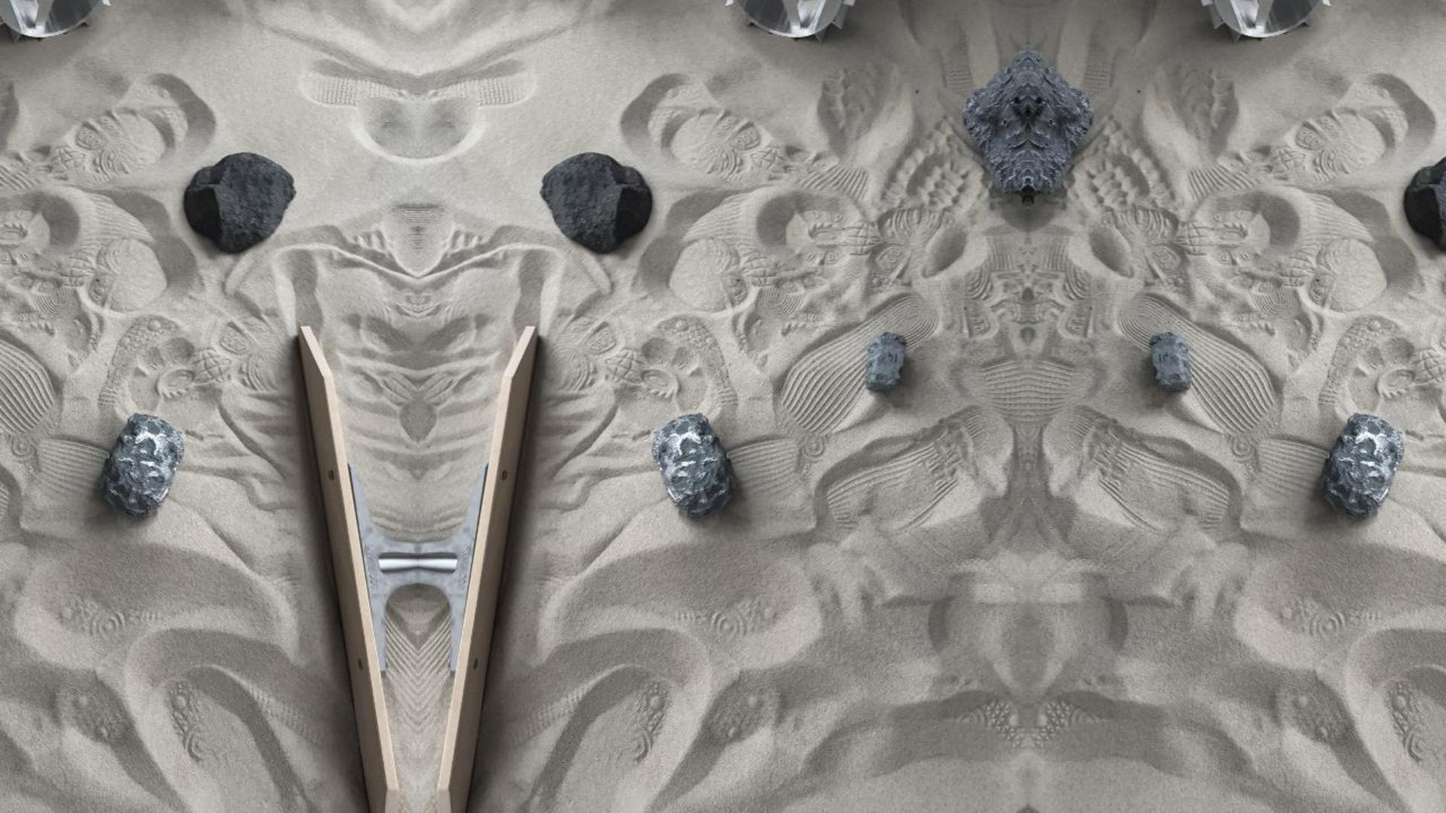rock: (962, 46, 1043, 204), (1013, 55, 1092, 203), (540, 152, 652, 252), (183, 152, 294, 252), (99, 413, 183, 517), (1322, 413, 1403, 517), (652, 413, 732, 517), (1403, 157, 1445, 251), (865, 332, 905, 391), (1150, 332, 1190, 391)
